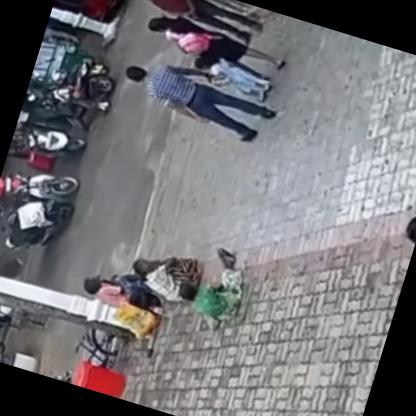Human Body: (116, 46, 282, 148), (144, 8, 288, 86), (172, 256, 250, 332), (131, 0, 261, 43), (124, 240, 206, 308), (78, 260, 161, 314), (188, 52, 276, 102)
